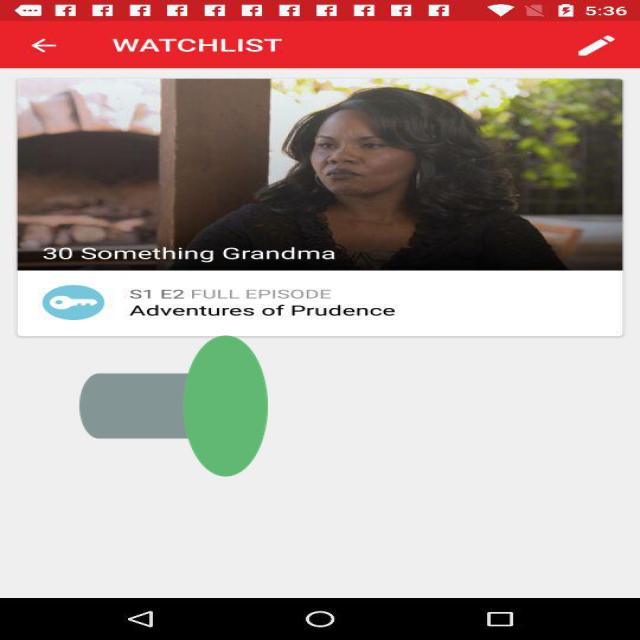social proof: (79, 249, 268, 563)
